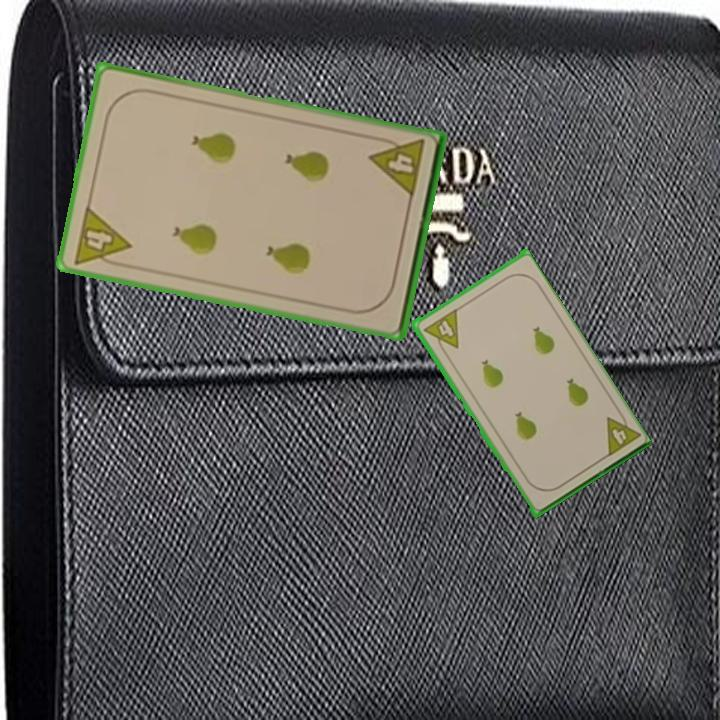4p: (69, 202, 134, 272), (366, 133, 428, 201), (419, 306, 462, 357), (602, 406, 642, 460)
